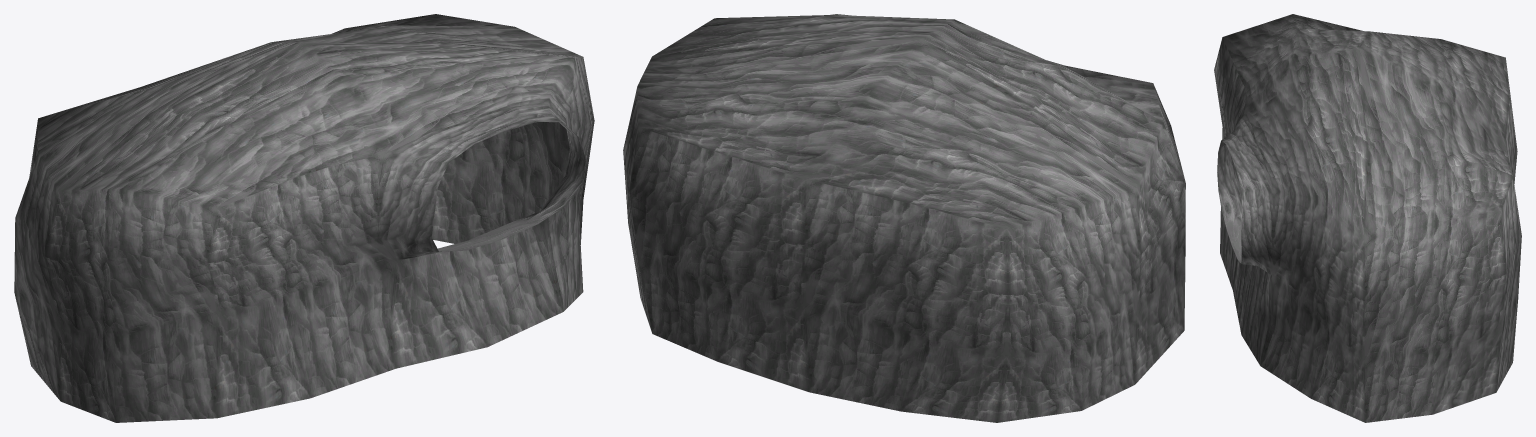
File: SWORDLIGHT20_PS-AREA03-04TRANS_01.fbx
3 views of the same model, side by side, from view 1: azimuth 30°, elevation 25°; view 2: azimuth 150°, elevation 25°; view 3: azimuth 270°, elevation 25° (orthographic). The views are drawn at different scales.
Parts seen in each view (by area): view 1: SWORDLIGHT20_PS-AREA03-04TRANS_01; view 2: SWORDLIGHT20_PS-AREA03-04TRANS_01; view 3: SWORDLIGHT20_PS-AREA03-04TRANS_01.
Part boxes in pixels (x1=…): SWORDLIGHT20_PS-AREA03-04TRANS_01: x1=14, y1=14, x2=594, y2=422; SWORDLIGHT20_PS-AREA03-04TRANS_01: x1=623, y1=14, x2=1185, y2=422; SWORDLIGHT20_PS-AREA03-04TRANS_01: x1=1214, y1=14, x2=1521, y2=422.
Size of the model in its own units: 207764 by 119036 by 121270.
Materials: 2 (2 with a texture image).
